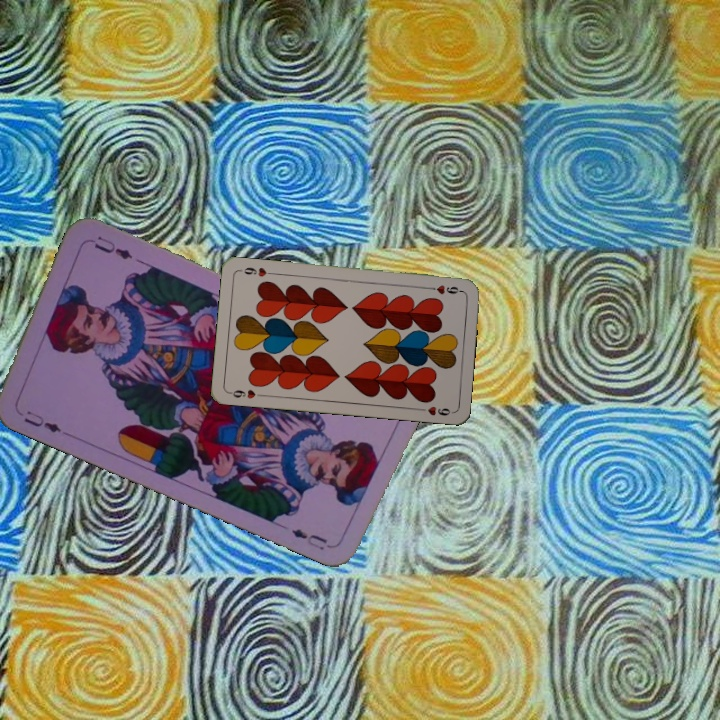EU: (20, 406, 64, 436)
H9: (225, 385, 266, 401), (424, 281, 464, 297)
